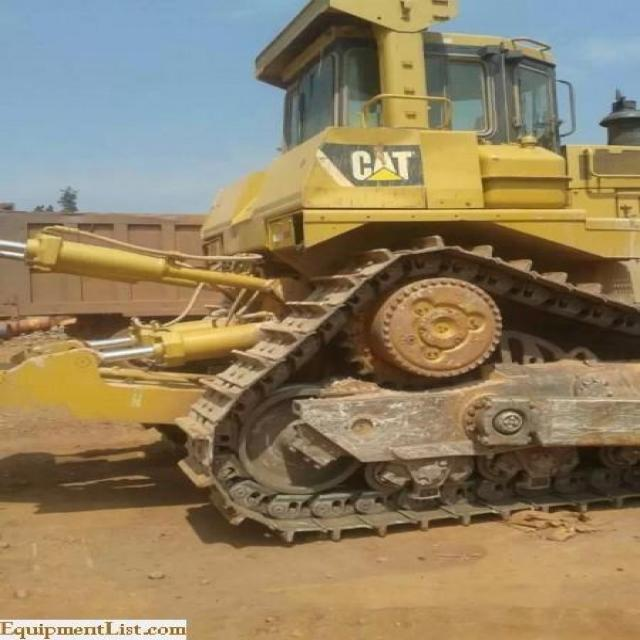Bulldozer: (7, 6, 639, 552)
